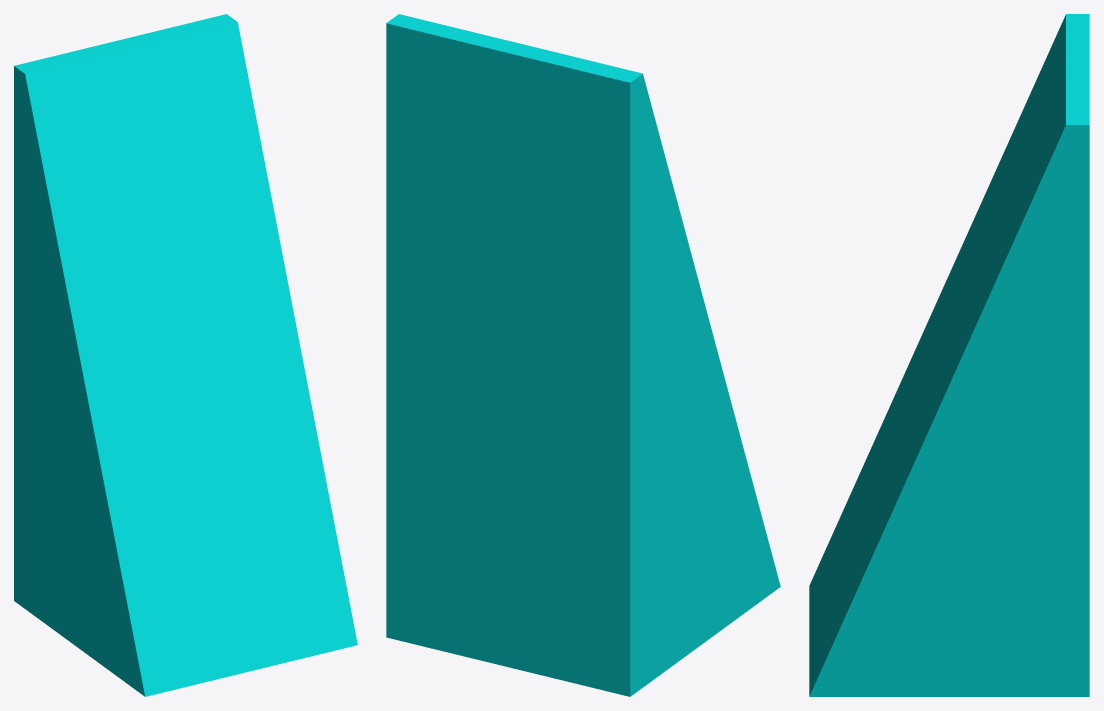
The model's file is SM_Bld_Wall_Slope_Half_01_Collision.fbx.
3 views of the same model, side by side, from view 1: azimuth 30°, elevation 25°; view 2: azimuth 150°, elevation 25°; view 3: azimuth 270°, elevation 25° (orthographic). The views are drawn at different scales.
Parts seen in each view (by area): view 1: SM_Bld_Wall_Slope_Half_01_Collision; view 2: SM_Bld_Wall_Slope_Half_01_Collision; view 3: SM_Bld_Wall_Slope_Half_01_Collision.
Part boxes in pixels (box(x1,y1,x2,y2)): SM_Bld_Wall_Slope_Half_01_Collision: box(14, 14, 357, 696); SM_Bld_Wall_Slope_Half_01_Collision: box(386, 14, 780, 696); SM_Bld_Wall_Slope_Half_01_Collision: box(809, 14, 1089, 696).
Size of the model in its own units: 250 by 601 by 267.
